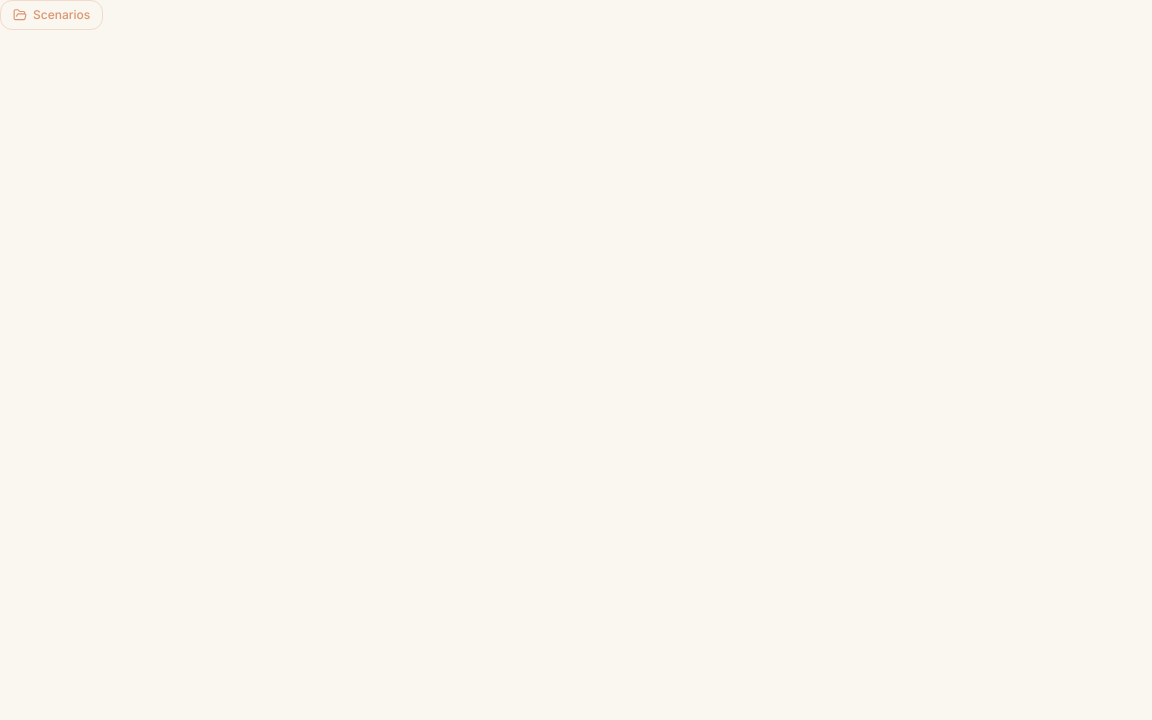
Test: role-aware scenario UI › labels unassigned adviser scenarios as needing a client in ScenarioManager
Click the button "Scenarios": [52, 15] box top-left (0, 0), bottom-right (103, 30)
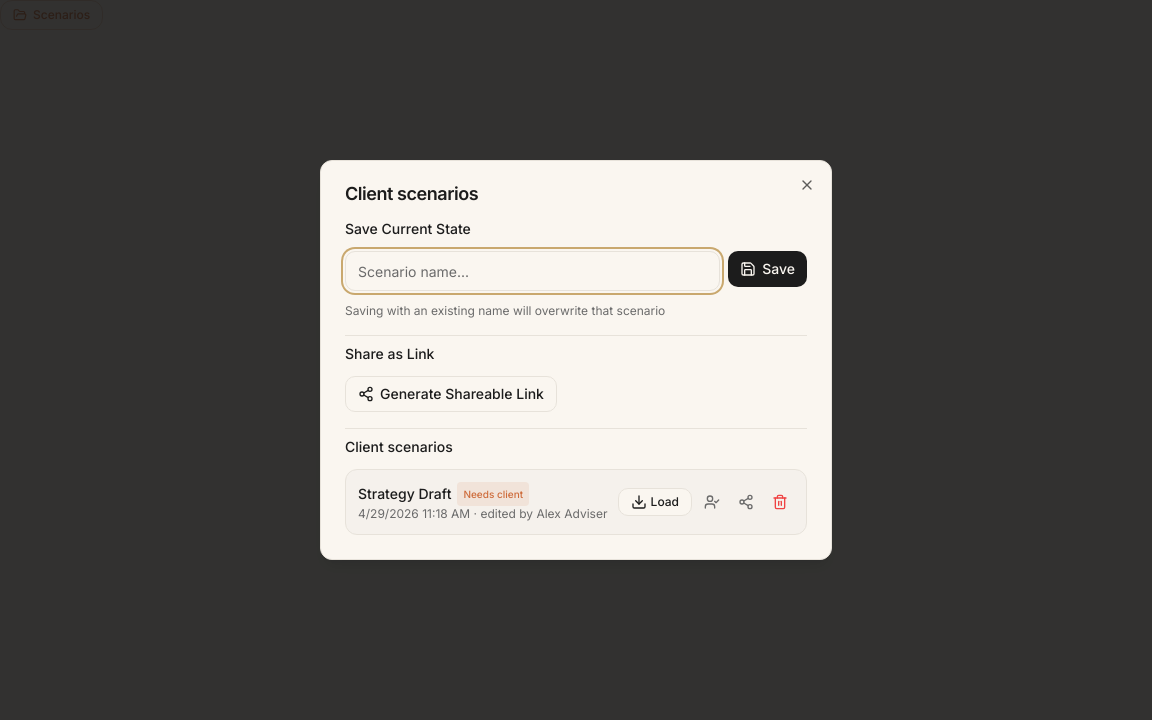
Expected: the heading "Client scenarios" is shown, top-left (345, 183), bottom-right (478, 204)
Expected: the text "Needs client" is shown, top-left (457, 482), bottom-right (529, 506)
